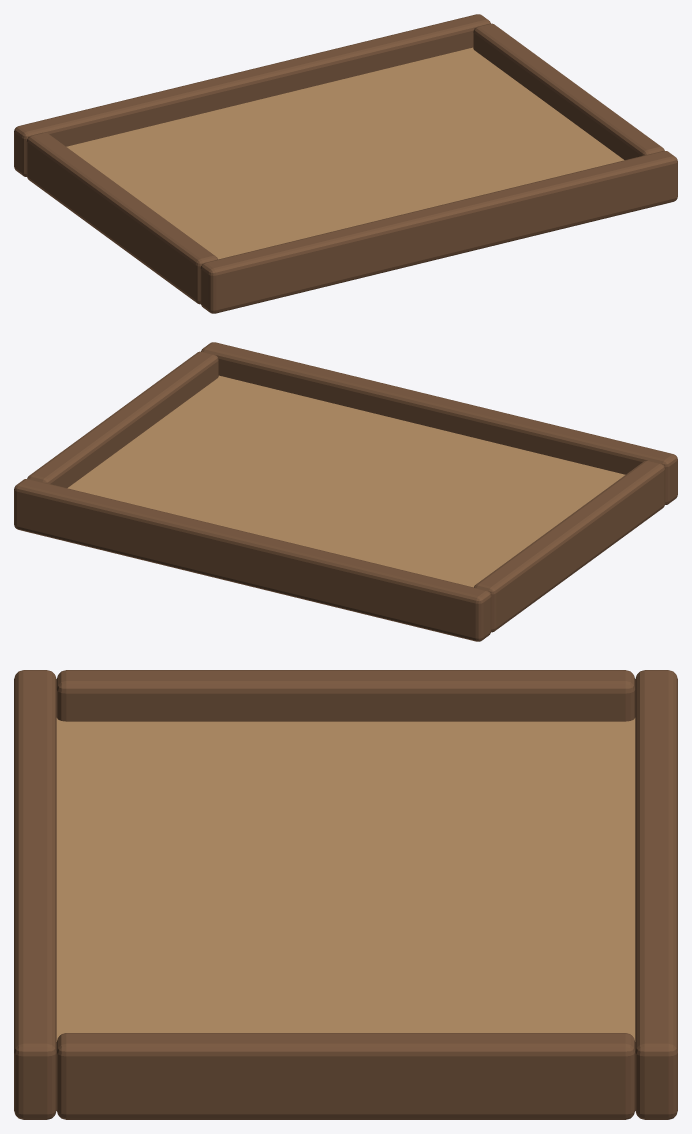
File: cafe-serving-tray-01.glb
3 views of the same model, one above another, from view 1: azimuth 30°, elevation 25°; view 2: azimuth 150°, elevation 25°; view 3: azimuth 270°, elevation 25° (orthographic). The views are drawn at different scales.
Parts seen in each view (by area): view 1: cafe-serving-tray-01; view 2: cafe-serving-tray-01; view 3: cafe-serving-tray-01.
Boxes of the visible parts, <box> form: cafe-serving-tray-01: <box>14,14,677,313</box>; cafe-serving-tray-01: <box>14,342,677,641</box>; cafe-serving-tray-01: <box>14,670,677,1119</box>.
Bounding box in the file's own units: 0.38 × 0.035 × 0.28.
